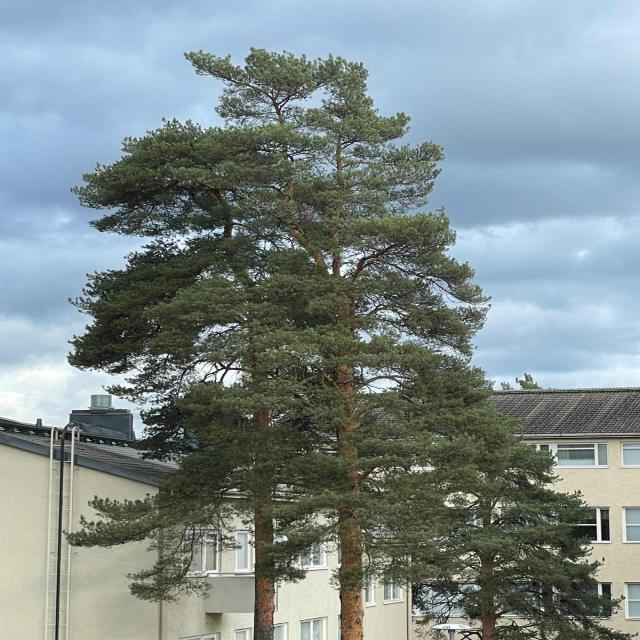pine: (39, 14, 548, 622)
